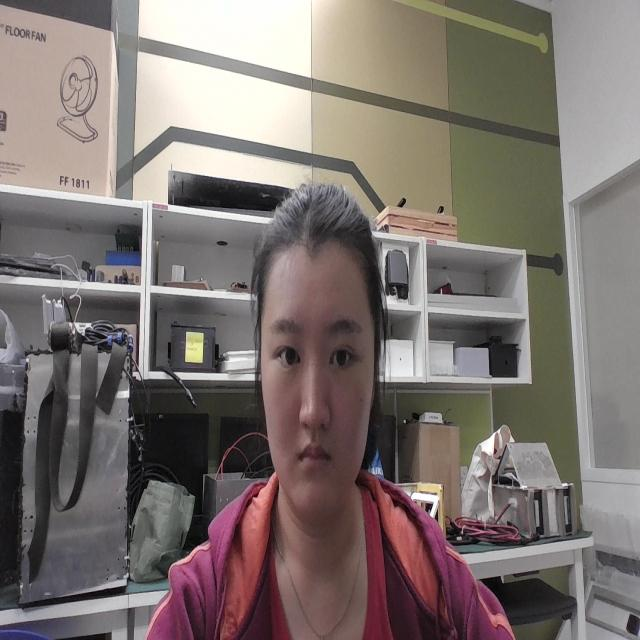Without Helmet: (229, 160, 418, 550)
